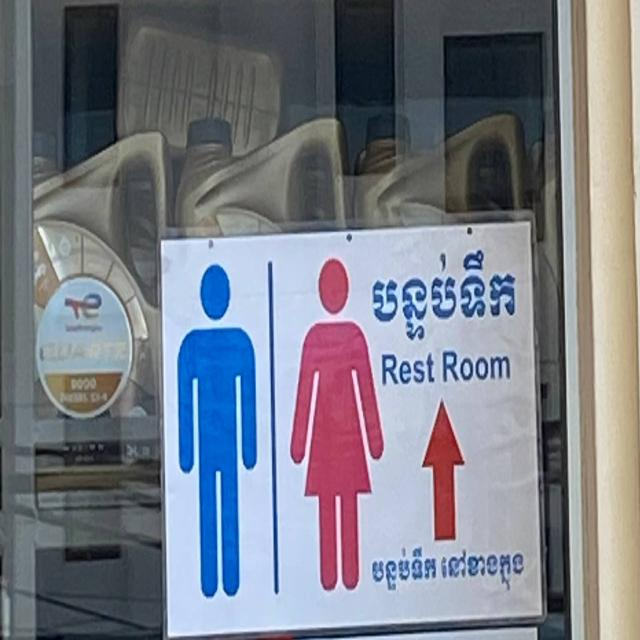1: (364, 534, 536, 604)
Yolov11_80vkh: (364, 239, 522, 350)
